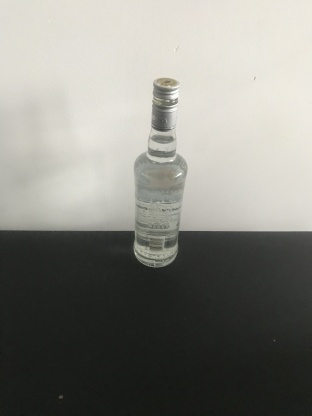nakretka: (150, 76, 180, 131)
